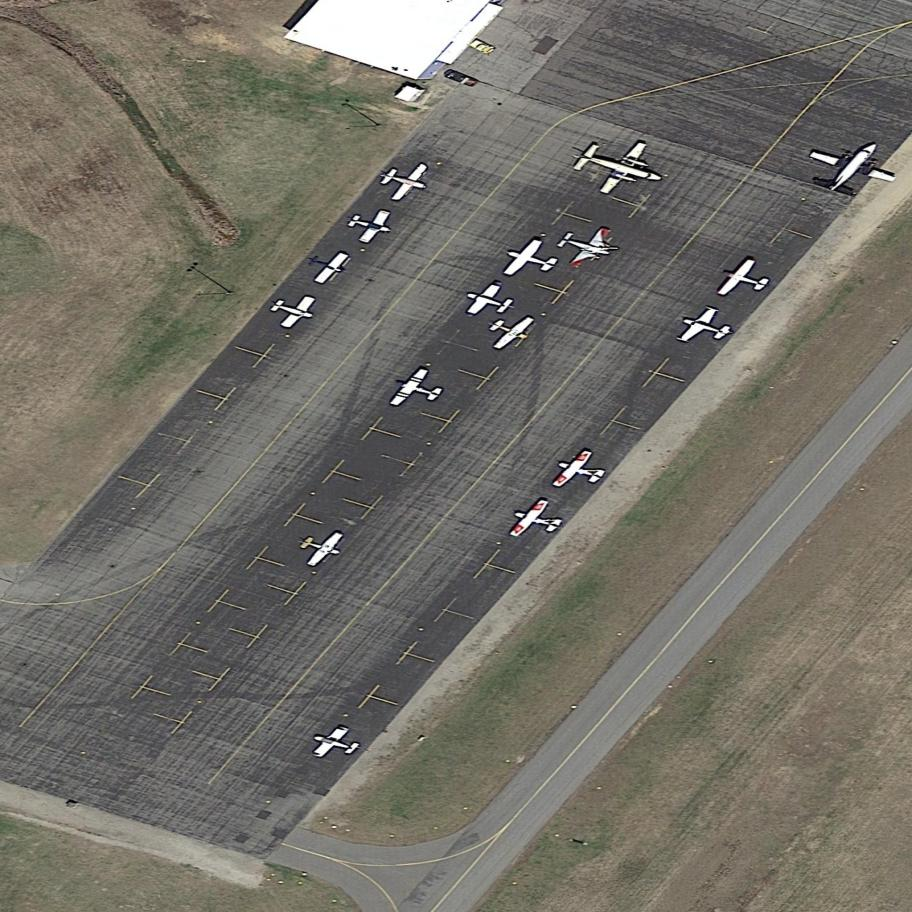plane: (553, 120, 686, 214), (542, 203, 629, 291), (498, 481, 574, 560), (541, 431, 617, 509), (708, 241, 781, 317), (454, 263, 524, 335), (668, 296, 745, 358), (492, 229, 569, 291), (365, 151, 442, 212), (473, 299, 544, 364), (286, 514, 353, 582), (379, 359, 453, 419), (292, 233, 356, 299), (261, 277, 325, 343), (301, 715, 368, 771), (337, 199, 402, 252)
